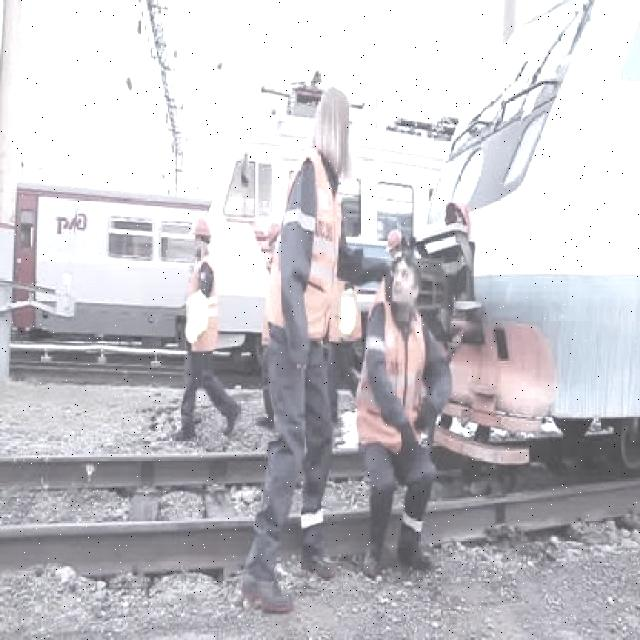Gloves: (402, 426, 424, 460)
Helmet: (444, 200, 470, 222), (188, 216, 210, 239), (387, 229, 402, 254), (266, 220, 277, 245)
Mask: (239, 144, 344, 614), (354, 302, 451, 584), (268, 150, 344, 338), (175, 253, 240, 444), (354, 280, 424, 448), (184, 252, 218, 356), (186, 290, 212, 344)
